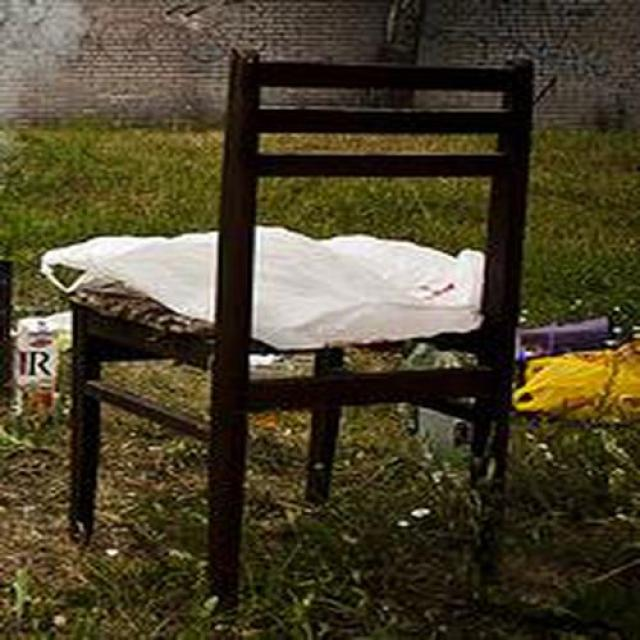chair: (41, 49, 535, 613)
